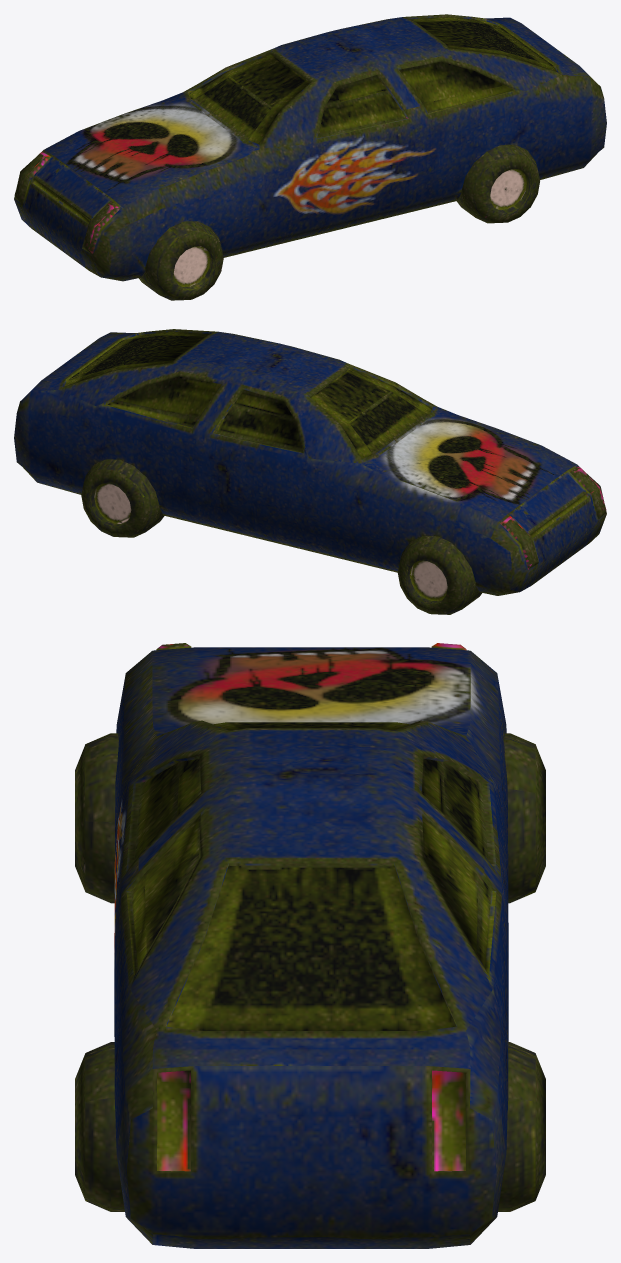
File: NewCar.fbx
3 views of the same model, one above another, from view 1: azimuth 30°, elevation 25°; view 2: azimuth 150°, elevation 25°; view 3: azimuth 270°, elevation 25° (orthographic). The views are drawn at different scales.
Parts seen in each view (by area): view 1: NewCar, Wheels-----.001, Wheels-----.003; view 2: NewCar, Wheels-----.004, Wheels-----.002; view 3: NewCar, Wheels-----.003, Wheels-----.001, Wheels-----.002, Wheels-----.004.
Part boxes in pixels (left/top/right/bottom): NewCar: left=14, top=14, right=606, bottom=281; Wheels-----.001: left=139, top=221, right=223, bottom=300; Wheels-----.003: left=456, top=144, right=539, bottom=223; NewCar: left=14, top=329, right=606, bottom=595; Wheels-----.004: left=397, top=536, right=481, bottom=614; Wheels-----.002: left=81, top=459, right=164, bottom=537; NewCar: left=114, top=643, right=508, bottom=1248; Wheels-----.003: left=75, top=1042, right=124, bottom=1211; Wheels-----.001: left=75, top=733, right=118, bottom=903; Wheels-----.002: left=498, top=1042, right=545, bottom=1211; Wheels-----.004: left=504, top=733, right=545, bottom=903.
Size of the model in its own units: 2219 by 681 by 880.
1 material, 1 textured.
